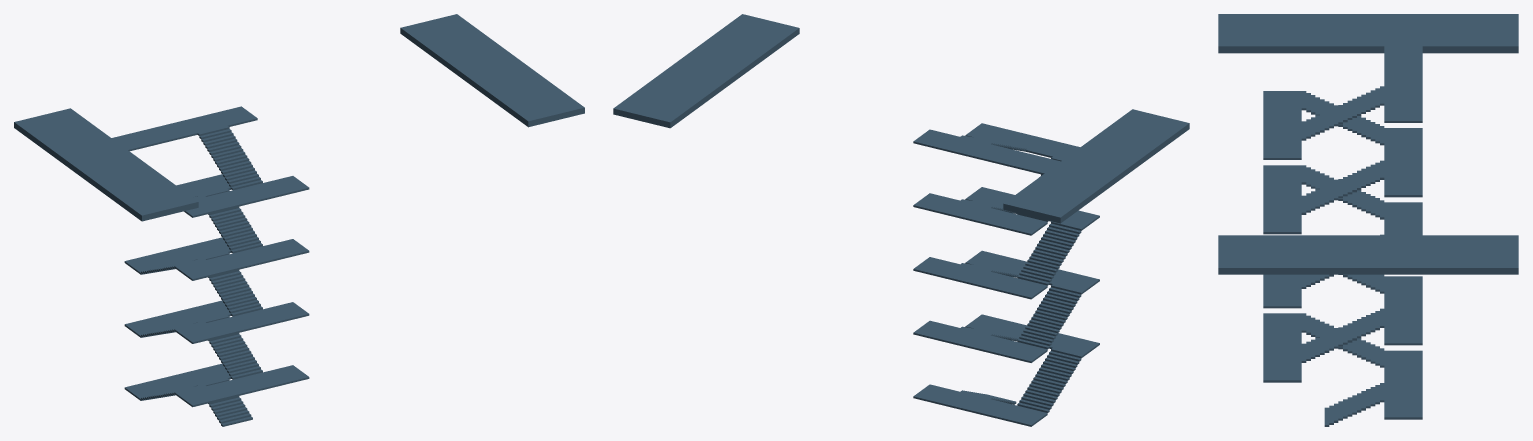
Rendered from v02-02-03-deck.glb.
3 views of the same model, side by side, from view 1: azimuth 30°, elevation 25°; view 2: azimuth 150°, elevation 25°; view 3: azimuth 270°, elevation 25° (orthographic). The views are drawn at different scales.
Visible parts, largest first — view 1: v02-02-03-deck; view 2: v02-02-03-deck; view 3: v02-02-03-deck.
Boxes of the visible parts, <box> form: v02-02-03-deck: <box>14,14,584,426</box>; v02-02-03-deck: <box>613,14,1189,426</box>; v02-02-03-deck: <box>1218,14,1518,426</box>.
Size of the model in its own units: 47 by 27.91 by 23.5.
